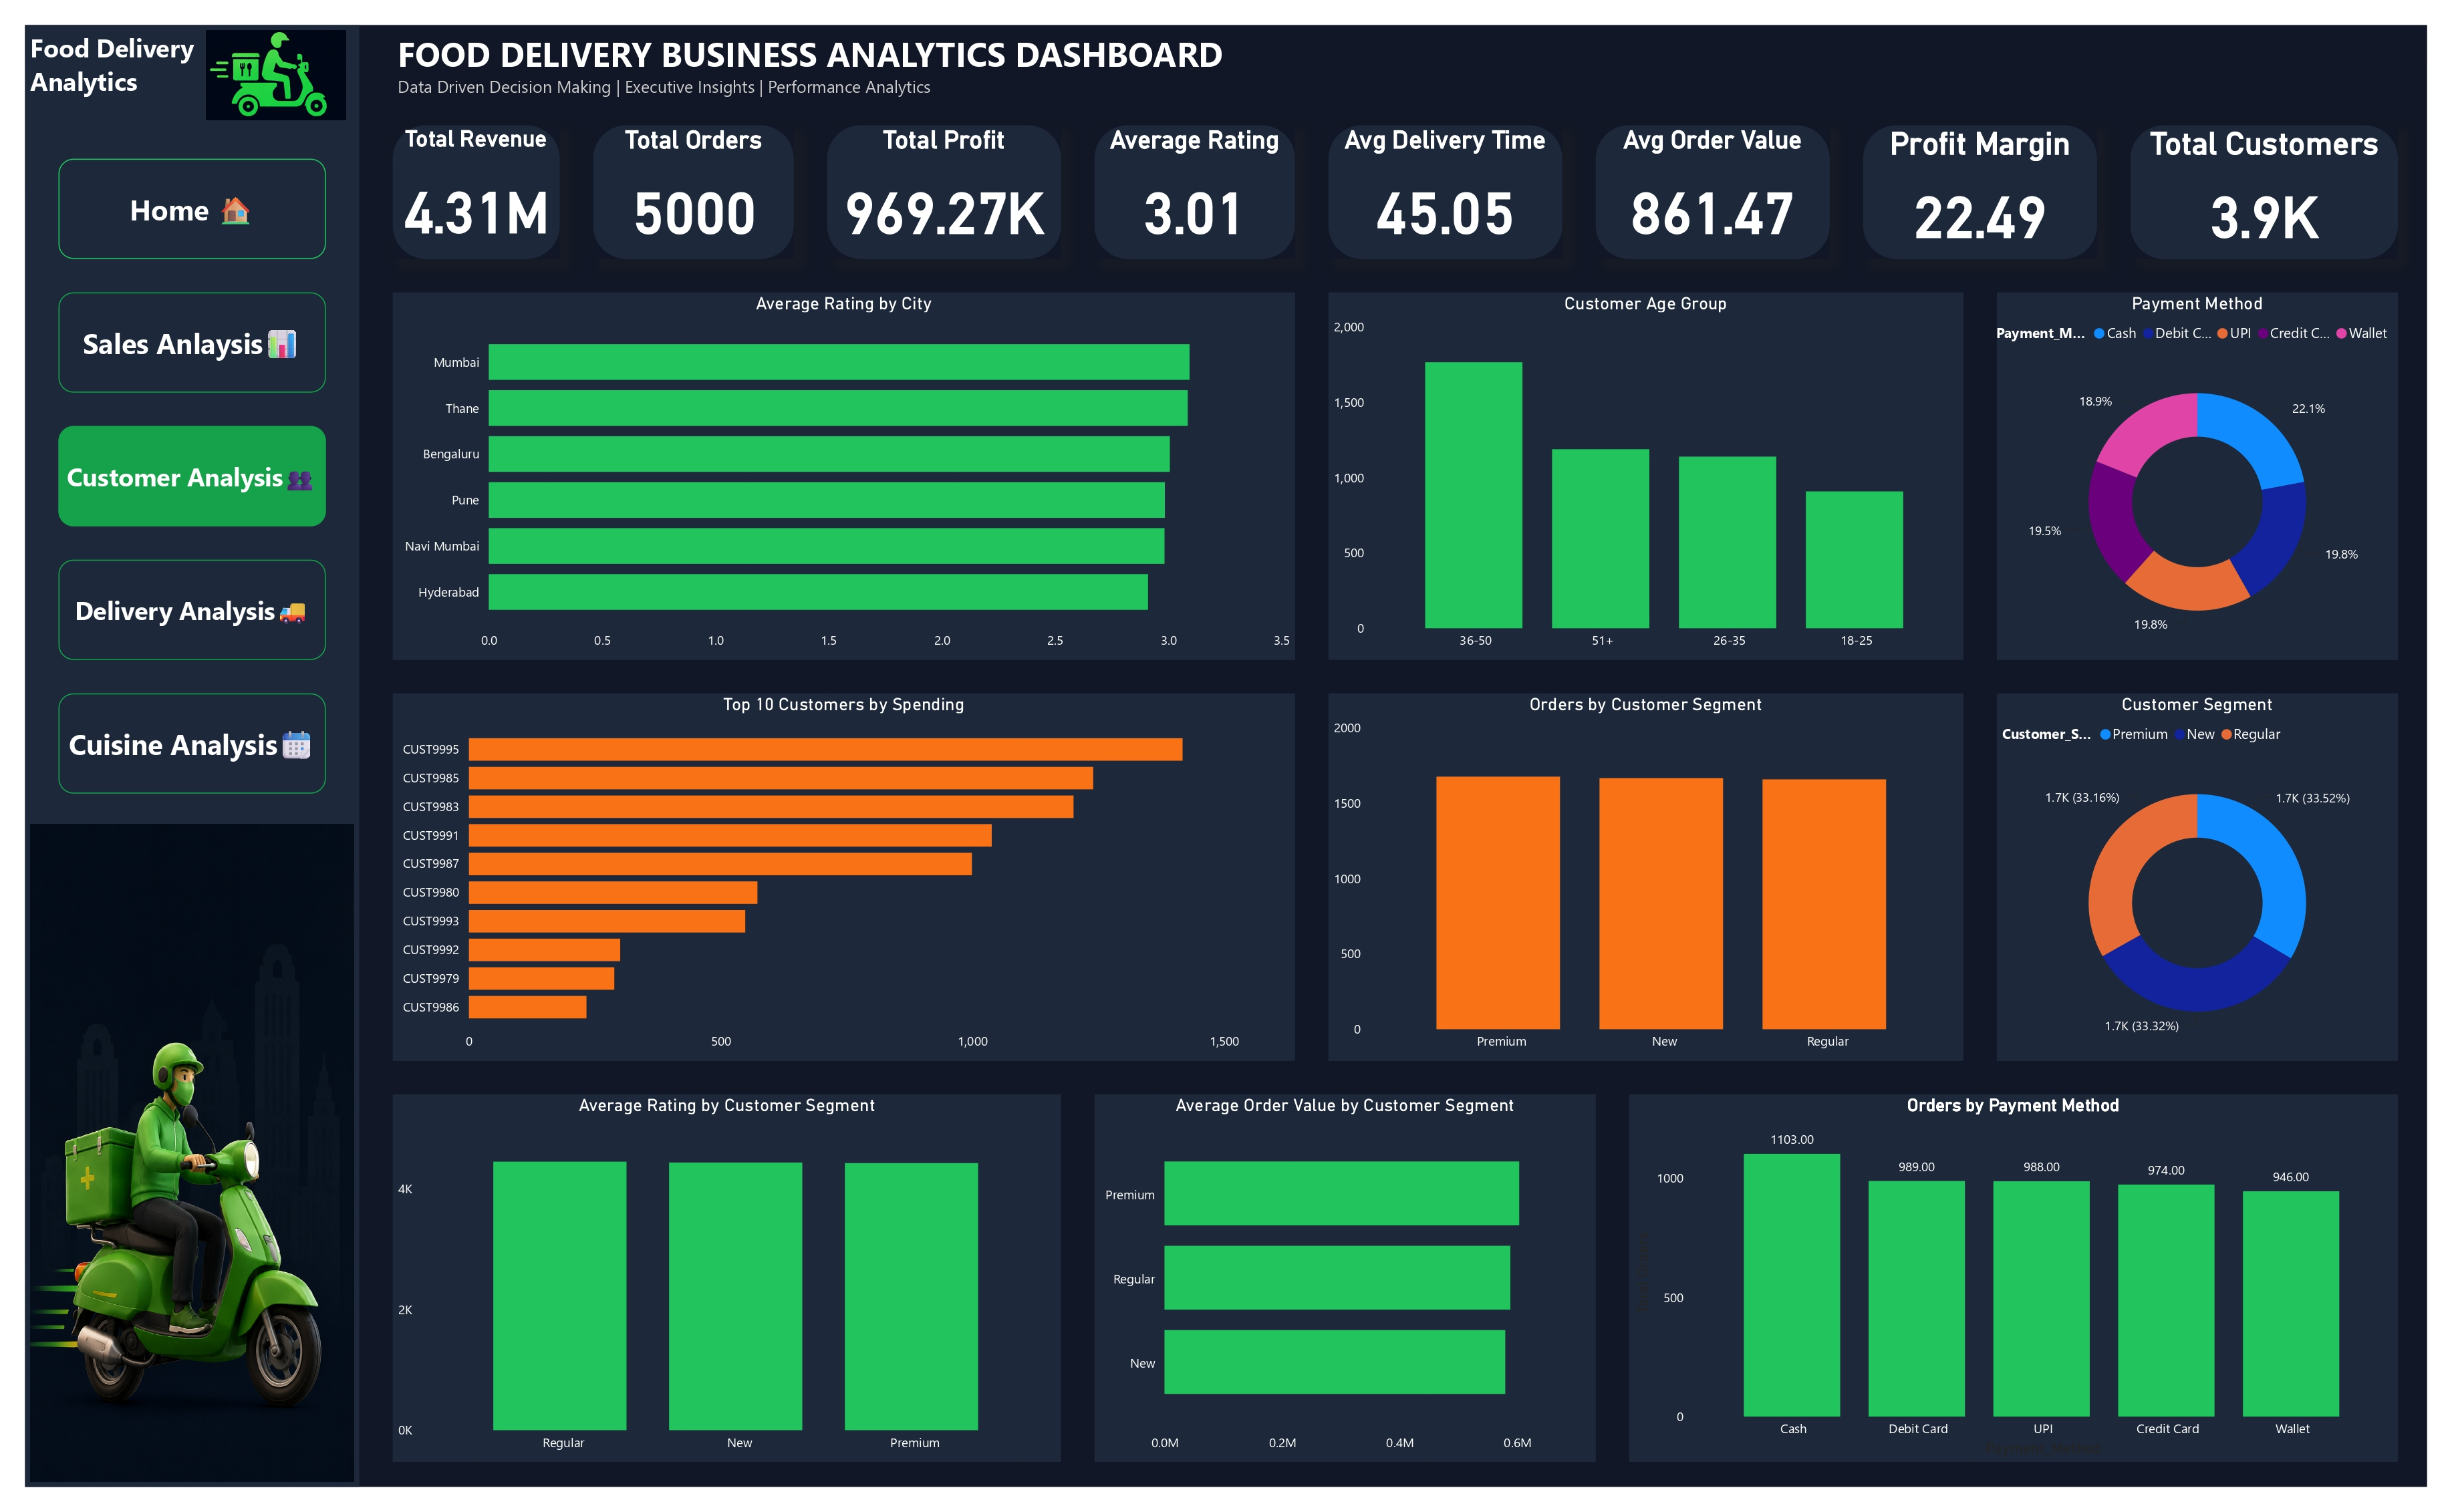

The dashboard page shown, as its layout file describes it:
{"tool":"powerbi","page":{"name":"Customer Analysis👥","canvas":[2300,1400],"ordinal":2},"visuals":[{"type":"textbox","box":[352,0,1664,320],"z":0},{"type":"shape","box":[352,96,160,128],"z":1000},{"type":"shape","box":[2016,96,256,128],"z":2000},{"type":"shape","box":[1760,96,224,128],"z":3000},{"type":"shape","box":[1504,96,224,128],"z":4000},{"type":"shape","box":[1248,96,224,128],"z":5000},{"type":"shape","box":[1024,96,192,128],"z":6000},{"type":"shape","box":[768,96,224,128],"z":7000},{"type":"shape","box":[544,96,192,128],"z":8000},{"type":"card","title":"Total Revenue","fields":{"Values":["food_delivery_clean_updated.Total Revenue"]},"box":[352,96,160,128],"z":9000},{"type":"card","title":"Total Orders","fields":{"Values":["food_delivery_clean_updated.Total Orders"]},"box":[544,96,192,128],"z":10000},{"type":"card","title":"Total Profit","fields":{"Values":["food_delivery_clean_updated.Total Profit"]},"box":[768,96,224,128],"z":11000},{"type":"card","title":"Avg Order Value","fields":{"Values":["food_delivery_clean_updated.Average Order Value"]},"box":[1504,96,224,128],"z":12000},{"type":"card","title":"Average Rating","fields":{"Values":["food_delivery_clean_updated.Average Rating"]},"box":[1024,96,192,128],"z":13000},{"type":"card","title":"Avg Delivery Time","fields":{"Values":["food_delivery_clean_updated.Avg Delivery Time"]},"box":[1248,96,224,128],"z":14000},{"type":"card","title":"Profit Margin ","fields":{"Values":["food_delivery_clean_updated.Profit Margin %"]},"box":[1760,96,224,128],"z":15000},{"type":"card","title":"Total Customers","fields":{"Values":["food_delivery_clean_updated.Total Customers"]},"box":[2016,96,256,128],"z":16000},{"type":"donutChart","title":"Payment Method","fields":{"Category":["food_delivery_clean_updated.Payment_Method"],"Y":["food_delivery_clean_updated.Total Orders"]},"box":[1888,256,384,352],"z":17000},{"type":"donutChart","title":"Customer Segment","fields":{"Category":["food_delivery_clean_updated.Customer_Segment"],"Y":["food_delivery_clean_updated.Total Orders"]},"box":[1888,640,384,352],"z":18000},{"type":"clusteredColumnChart","title":"Orders by Payment Method","fields":{"Category":["food_delivery_clean_updated.Payment_Method"],"Y":["food_delivery_clean_updated.Total Orders"]},"box":[1536,1024,736,352],"z":19000},{"type":"shape","box":[0,-40,320,1440],"z":20000},{"type":"image","box":[160,0,160,96],"z":21000},{"type":"textbox","box":[0,0,192,96],"z":22000},{"type":"image","box":[0,760,320,640],"z":23000},{"type":"shape","box":[32,128,256,96],"z":24000},{"type":"shape","box":[32,512,256,96],"z":25000},{"type":"shape","box":[32,256,256,96],"z":26000},{"type":"shape","box":[32,384,256,96],"z":27000},{"type":"shape","box":[32,640,256,96],"z":28000},{"type":"clusteredColumnChart","title":"Average Rating by Customer Segment","fields":{"Category":["food_delivery_clean_updated.Customer_Segment"],"Y":["Sum(food_delivery_clean_updated.Customer_Rating)"]},"box":[352,1024,640,352],"z":29000},{"type":"clusteredBarChart","title":"Average Rating by City","fields":{"Category":["food_delivery_clean_updated.City"],"Y":["food_delivery_clean_updated.Average Rating"]},"box":[352,256,864,352],"z":30000},{"type":"clusteredColumnChart","title":"Customer Age Group","fields":{"Category":["food_delivery_clean_updated.Customer_Age_Group"],"Y":["CountNonNull(food_delivery_clean_updated.Customer_ID)"]},"box":[1248,256,608,352],"z":31000},{"type":"clusteredColumnChart","title":"Orders by Customer Segment","fields":{"Category":["food_delivery_clean_updated.Customer_Segment"],"Y":["food_delivery_clean_updated.Total Orders"]},"box":[1248,640,608,352],"z":32000},{"type":"clusteredBarChart","title":"Average Order Value by Customer Segment","fields":{"Category":["food_delivery_clean_updated.Customer_Segment"],"Y":["Sum(food_delivery_clean_updated.Average_Order_Value)"]},"box":[1024,1024,480,352],"z":33000},{"type":"clusteredBarChart","title":"Top 10 Customers by Spending","fields":{"Category":["food_delivery_clean_updated.Customer_ID"],"Y":["Sum(food_delivery_clean_updated.Total_Amount)"]},"box":[352,640,864,352],"z":34000}]}

Visuals, with their boxes on the page's 2300x1400 design canvas (x1, y1, x2, y2). These are canvas units, not pixel positions in the 2452x1512 screenshot, which may show the page scaled, cropped or inside an application window:
textbox: {"x1": 352, "y1": 0, "x2": 2016, "y2": 320}
shape: {"x1": 352, "y1": 96, "x2": 512, "y2": 224}
shape: {"x1": 2016, "y1": 96, "x2": 2272, "y2": 224}
shape: {"x1": 1760, "y1": 96, "x2": 1984, "y2": 224}
shape: {"x1": 1504, "y1": 96, "x2": 1728, "y2": 224}
shape: {"x1": 1248, "y1": 96, "x2": 1472, "y2": 224}
shape: {"x1": 1024, "y1": 96, "x2": 1216, "y2": 224}
shape: {"x1": 768, "y1": 96, "x2": 992, "y2": 224}
shape: {"x1": 544, "y1": 96, "x2": 736, "y2": 224}
"Total Revenue" card: {"x1": 352, "y1": 96, "x2": 512, "y2": 224}
"Total Orders" card: {"x1": 544, "y1": 96, "x2": 736, "y2": 224}
"Total Profit" card: {"x1": 768, "y1": 96, "x2": 992, "y2": 224}
"Avg Order Value" card: {"x1": 1504, "y1": 96, "x2": 1728, "y2": 224}
"Average Rating" card: {"x1": 1024, "y1": 96, "x2": 1216, "y2": 224}
"Avg Delivery Time" card: {"x1": 1248, "y1": 96, "x2": 1472, "y2": 224}
"Profit Margin " card: {"x1": 1760, "y1": 96, "x2": 1984, "y2": 224}
"Total Customers" card: {"x1": 2016, "y1": 96, "x2": 2272, "y2": 224}
"Payment Method" donutChart: {"x1": 1888, "y1": 256, "x2": 2272, "y2": 608}
"Customer Segment" donutChart: {"x1": 1888, "y1": 640, "x2": 2272, "y2": 992}
"Orders by Payment Method" clusteredColumnChart: {"x1": 1536, "y1": 1024, "x2": 2272, "y2": 1376}
shape: {"x1": 0, "y1": -40, "x2": 320, "y2": 1400}
image: {"x1": 160, "y1": 0, "x2": 320, "y2": 96}
textbox: {"x1": 0, "y1": 0, "x2": 192, "y2": 96}
image: {"x1": 0, "y1": 760, "x2": 320, "y2": 1400}
shape: {"x1": 32, "y1": 128, "x2": 288, "y2": 224}
shape: {"x1": 32, "y1": 512, "x2": 288, "y2": 608}
shape: {"x1": 32, "y1": 256, "x2": 288, "y2": 352}
shape: {"x1": 32, "y1": 384, "x2": 288, "y2": 480}
shape: {"x1": 32, "y1": 640, "x2": 288, "y2": 736}
"Average Rating by Customer Segment" clusteredColumnChart: {"x1": 352, "y1": 1024, "x2": 992, "y2": 1376}
"Average Rating by City" clusteredBarChart: {"x1": 352, "y1": 256, "x2": 1216, "y2": 608}
"Customer Age Group" clusteredColumnChart: {"x1": 1248, "y1": 256, "x2": 1856, "y2": 608}
"Orders by Customer Segment" clusteredColumnChart: {"x1": 1248, "y1": 640, "x2": 1856, "y2": 992}
"Average Order Value by Customer Segment" clusteredBarChart: {"x1": 1024, "y1": 1024, "x2": 1504, "y2": 1376}
"Top 10 Customers by Spending" clusteredBarChart: {"x1": 352, "y1": 640, "x2": 1216, "y2": 992}
